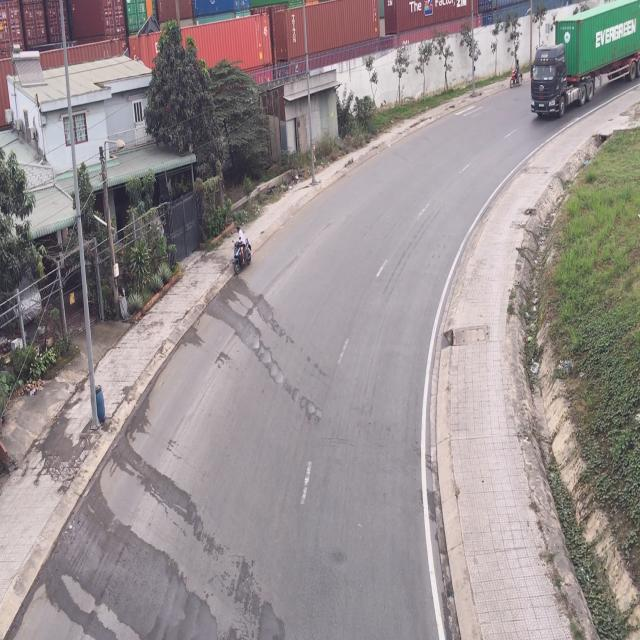motorbike: (233, 227, 254, 277), (512, 52, 524, 88)
truck: (529, 15, 640, 124)
